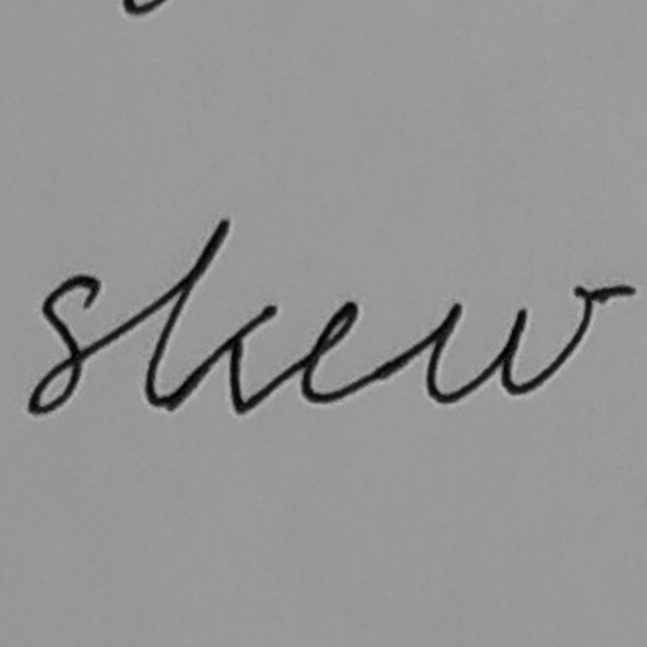e: (298, 298, 375, 406)
k: (142, 216, 279, 416)
s: (24, 271, 105, 418)
w: (422, 282, 593, 407)
